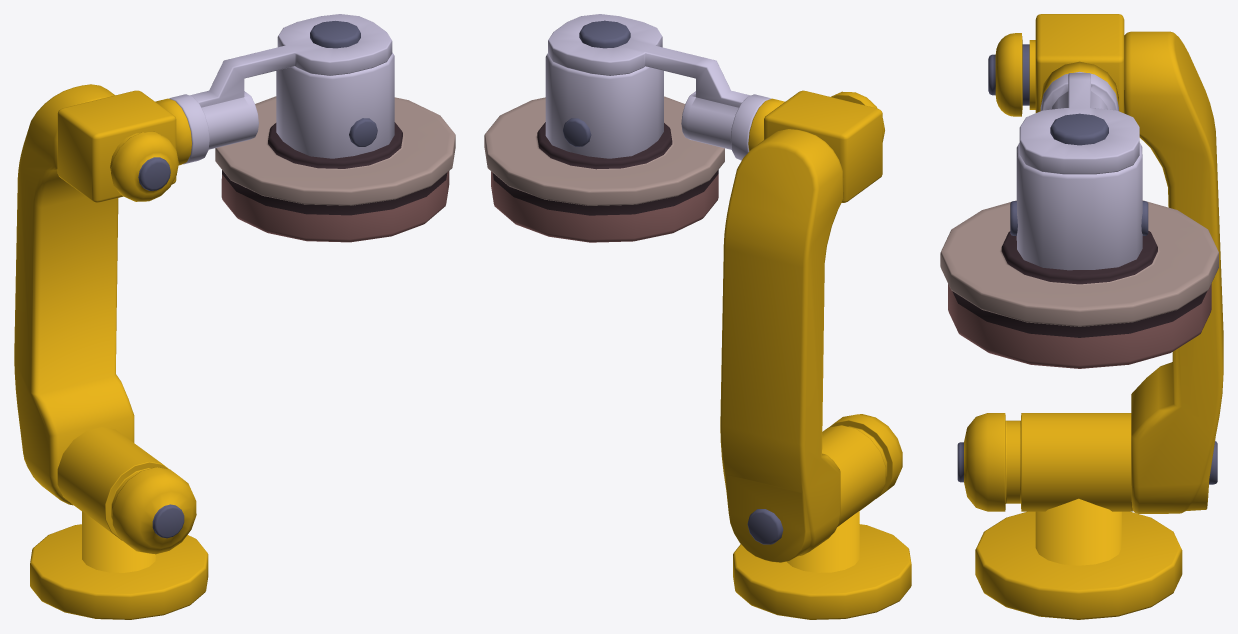
The model's file is RobotArm.fbx.
3 renders of one model, left to right at view 1: azimuth 30°, elevation 25°; view 2: azimuth 150°, elevation 25°; view 3: azimuth 270°, elevation 25°, orthographic. The views are drawn at different scales.
Parts seen in each view (by area): view 1: Body, Upper, Magnet, Bottom; view 2: Body, Upper, Magnet, Bottom; view 3: Body, Magnet, Upper, Bottom.
Part boxes in pixels (left/top/right/bottom): Body: left=14, top=84, right=196, bottom=554; Upper: left=57, top=14, right=394, bottom=202; Magnet: left=215, top=96, right=455, bottom=242; Bottom: left=30, top=511, right=208, bottom=619; Body: left=720, top=91, right=902, bottom=562; Upper: left=545, top=14, right=882, bottom=202; Magnet: left=484, top=96, right=724, bottom=242; Bottom: left=733, top=511, right=911, bottom=619; Body: left=957, top=31, right=1223, bottom=513; Magnet: left=940, top=200, right=1218, bottom=368; Upper: left=1010, top=14, right=1148, bottom=270; Bottom: left=975, top=498, right=1182, bottom=619.
Size of the model in its own units: 2.56 by 3.06 by 1.37.
1 material, 1 textured.
